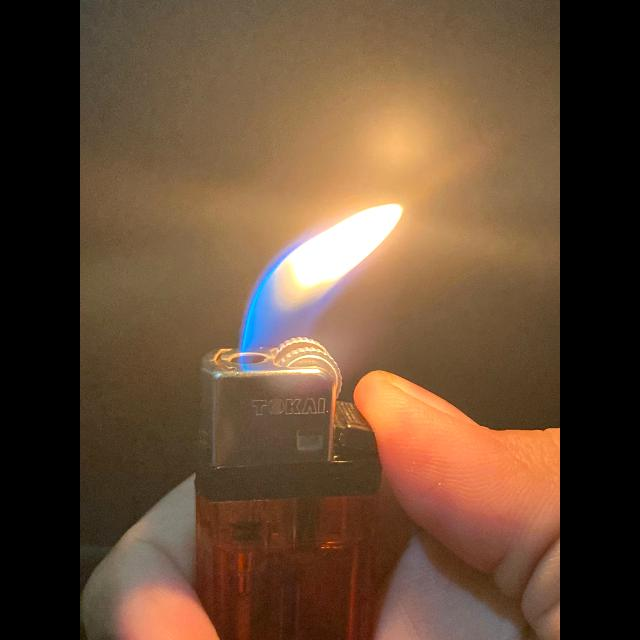fire: (195, 205, 402, 502)
